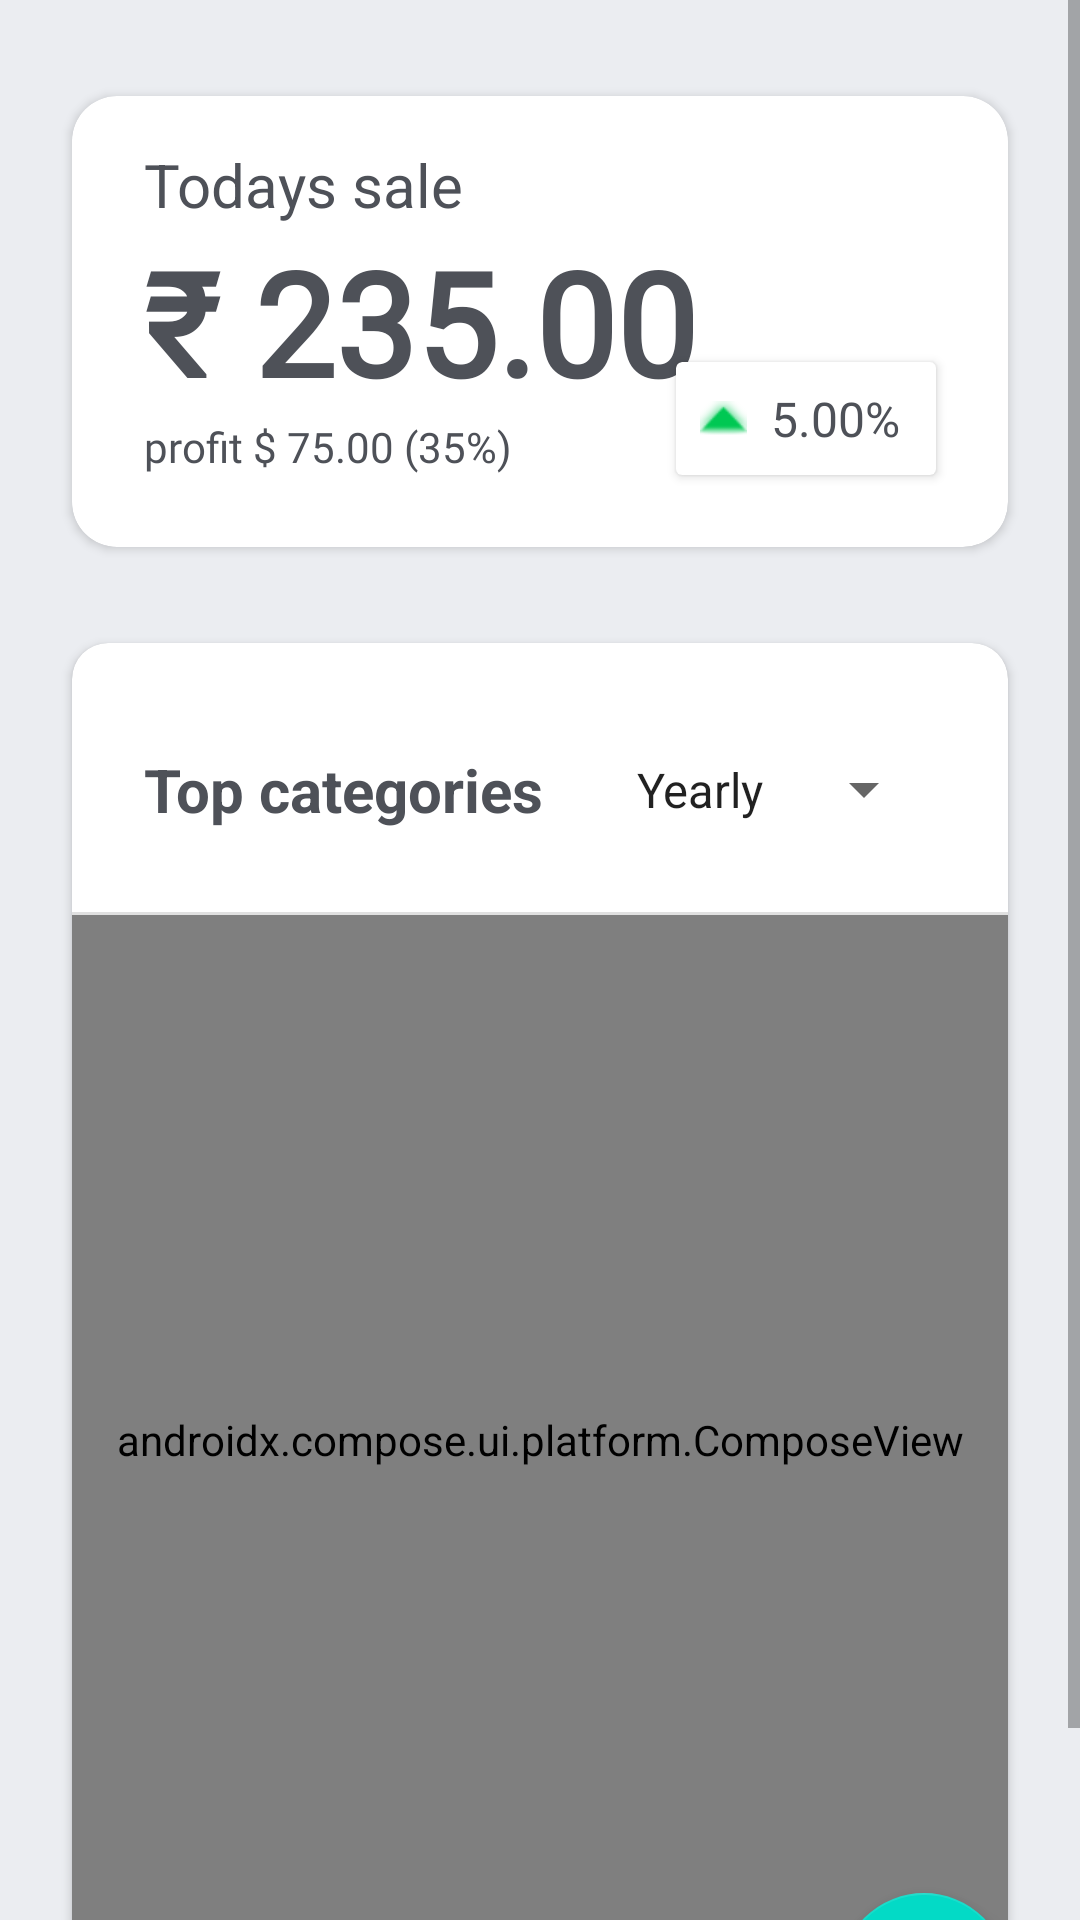

Where to tap for icons on this 1080w x 1920h app screen, as (x=x, y=y):
arrow up float: (x=723, y=418)
